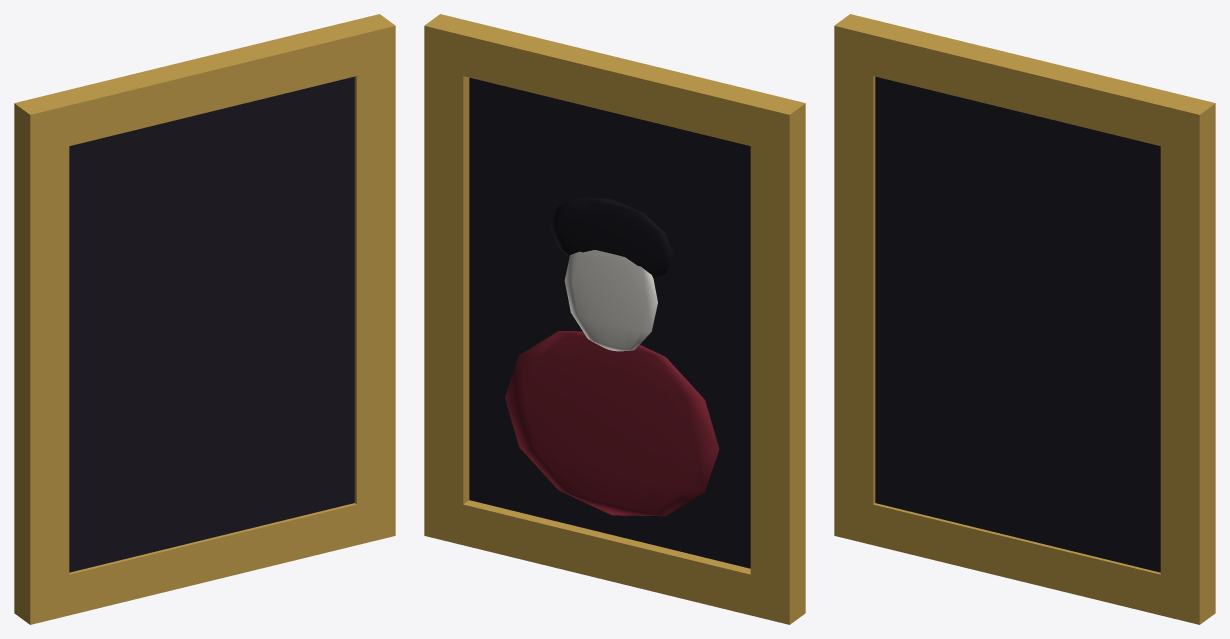
The model's file is SM_PRP_RetratoM.fbx.
3 renders of one model, left to right at view 1: azimuth 30°, elevation 25°; view 2: azimuth 150°, elevation 25°; view 3: azimuth 330°, elevation 25°, orthographic.
Visible parts, largest first — view 1: SM_PRP_RetratoM; view 2: SM_PRP_RetratoM; view 3: SM_PRP_RetratoM.
Boxes of the visible parts, left/top/right/bottom form: SM_PRP_RetratoM: left=14, top=14, right=395, bottom=624; SM_PRP_RetratoM: left=424, top=14, right=805, bottom=624; SM_PRP_RetratoM: left=834, top=14, right=1215, bottom=624.
Size of the model in its own units: 0.525 by 0.7 by 0.04.
